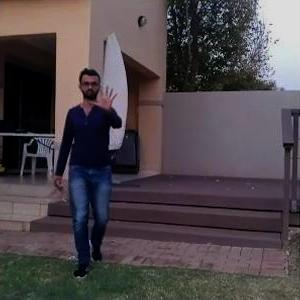follow_hand: (87, 79, 121, 113)
